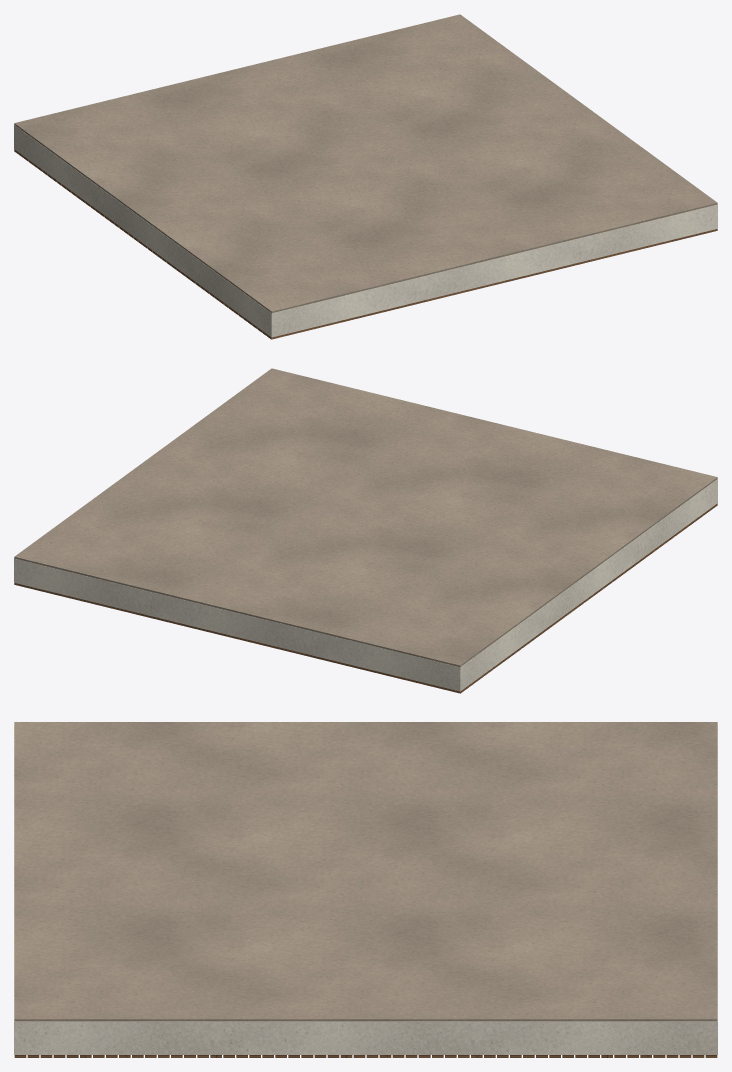
Rendered from c_roof_studio.glb.
3 renders of one model, top to bottom at view 1: azimuth 30°, elevation 25°; view 2: azimuth 150°, elevation 25°; view 3: azimuth 270°, elevation 25°, orthographic. The views are drawn at different scales.
Visible parts, largest first — view 1: c_roof_studio_roofdeck, c_roof_studio_plaster, c_roof_studio_planks; view 2: c_roof_studio_roofdeck, c_roof_studio_plaster, c_roof_studio_planks; view 3: c_roof_studio_roofdeck, c_roof_studio_plaster, c_roof_studio_planks.
Boxes of the visible parts, left/top/right/bottom form: c_roof_studio_roofdeck: left=14, top=14, right=717, bottom=313; c_roof_studio_plaster: left=14, top=125, right=717, bottom=337; c_roof_studio_planks: left=14, top=149, right=717, bottom=339; c_roof_studio_roofdeck: left=14, top=368, right=717, bottom=667; c_roof_studio_plaster: left=14, top=479, right=717, bottom=691; c_roof_studio_planks: left=14, top=503, right=717, bottom=693; c_roof_studio_roofdeck: left=14, top=722, right=717, bottom=1021; c_roof_studio_plaster: left=14, top=724, right=717, bottom=1054; c_roof_studio_planks: left=14, top=1055, right=717, bottom=1057.
Size of the model in its own units: 5.4 by 0.325 by 5.4.
3 materials, 3 textured.
